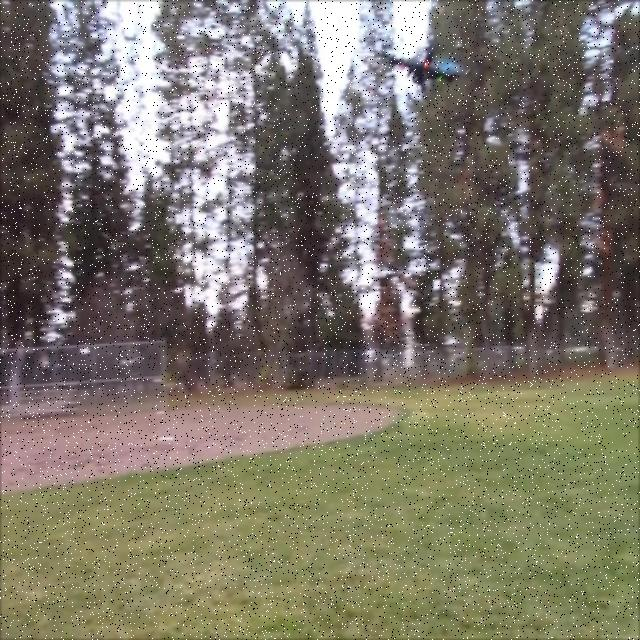UAV: (388, 46, 472, 92)
